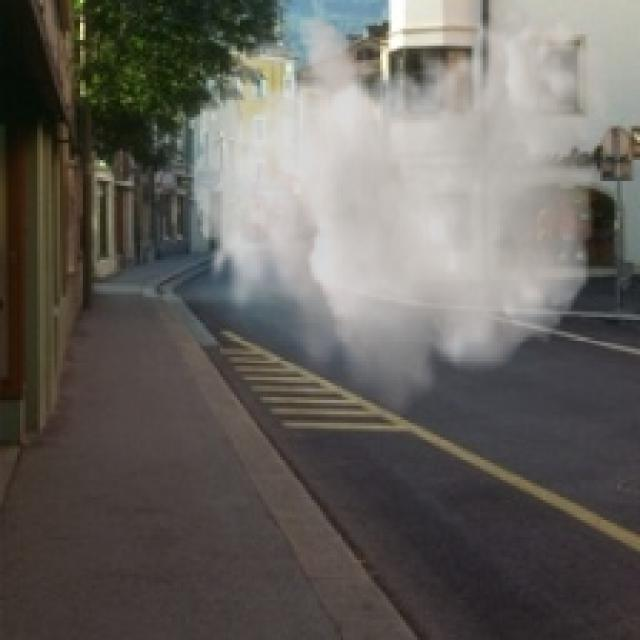smoke: (192, 3, 612, 426)
